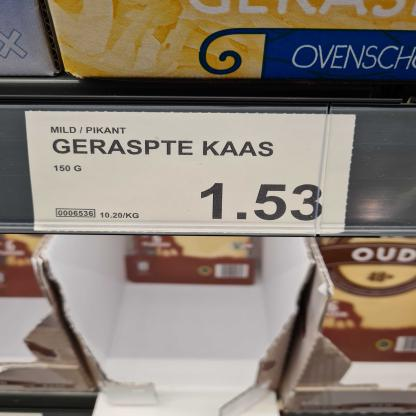prtg: (25, 112, 357, 237)
